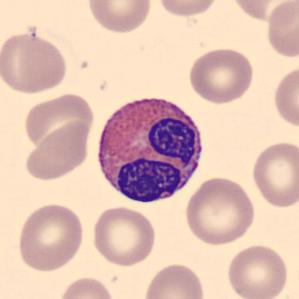Eosinophil: (92, 87, 209, 210)
RBC: (182, 175, 257, 247), (15, 200, 85, 273), (0, 30, 70, 96), (22, 92, 96, 152), (90, 203, 158, 268), (22, 120, 93, 182), (186, 45, 256, 105), (224, 242, 290, 299), (250, 138, 298, 210), (141, 261, 208, 299), (86, 0, 154, 35), (263, 0, 298, 59), (270, 63, 299, 130), (228, 0, 296, 23), (57, 274, 117, 299), (154, 0, 222, 19)
